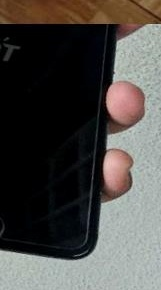scratch: (0, 217, 80, 268), (0, 225, 6, 236)
